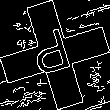P_S: (30, 25, 80, 85)
